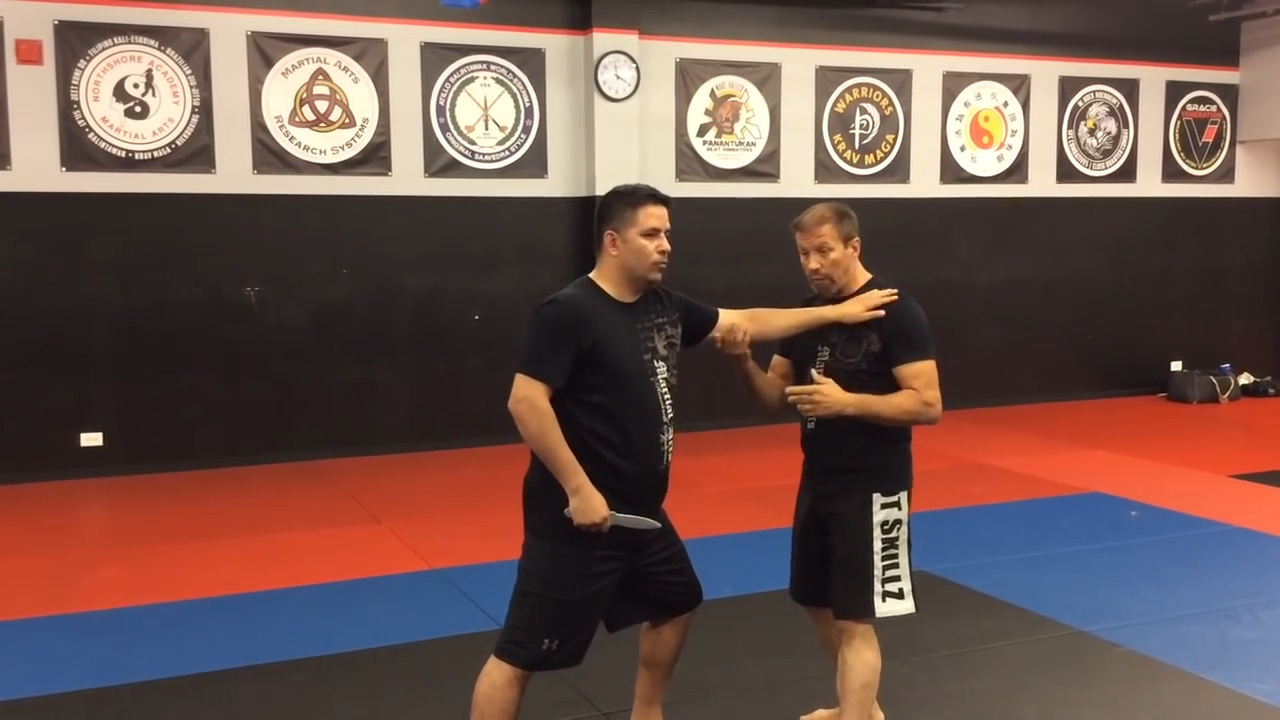knife: (560, 501, 665, 537)
